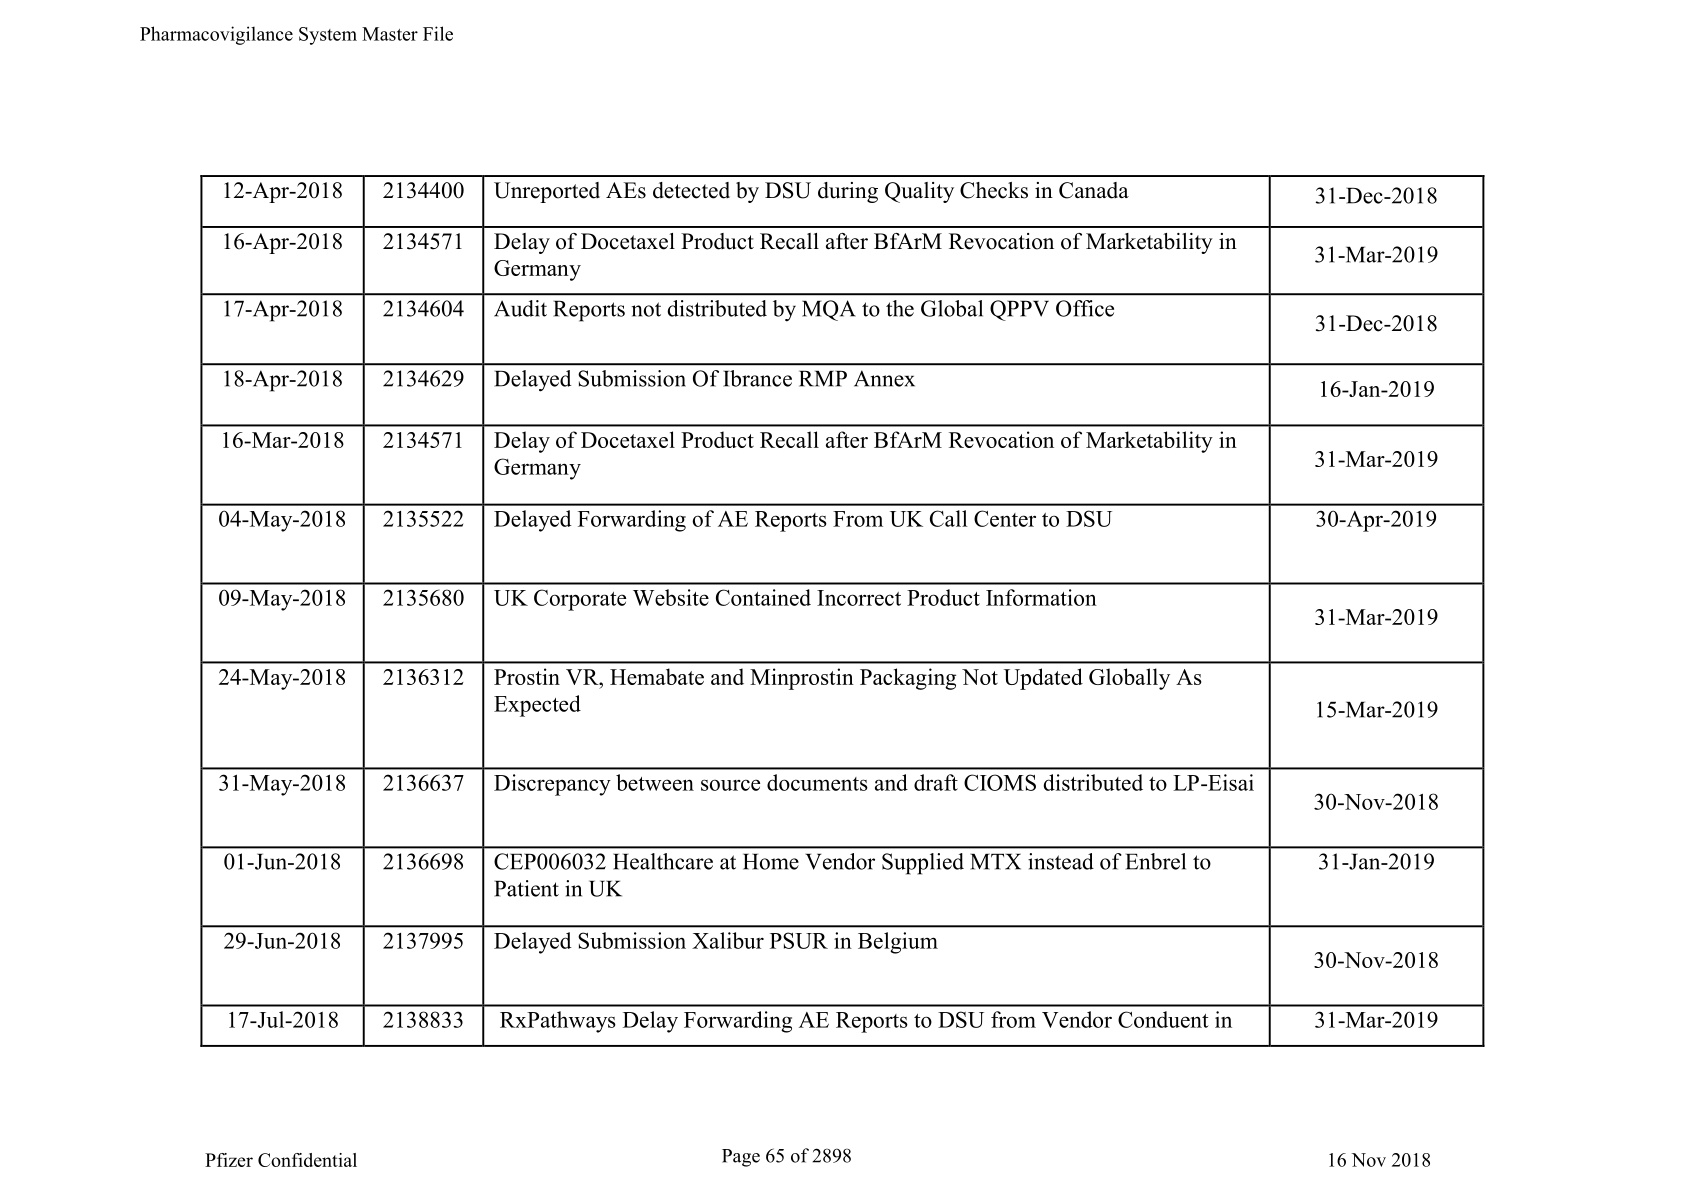full_lined: (200, 174, 1485, 1047)
